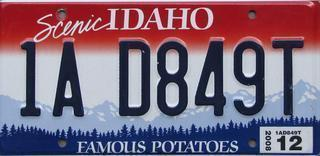placa de veiculo: (2, 2, 310, 151)
